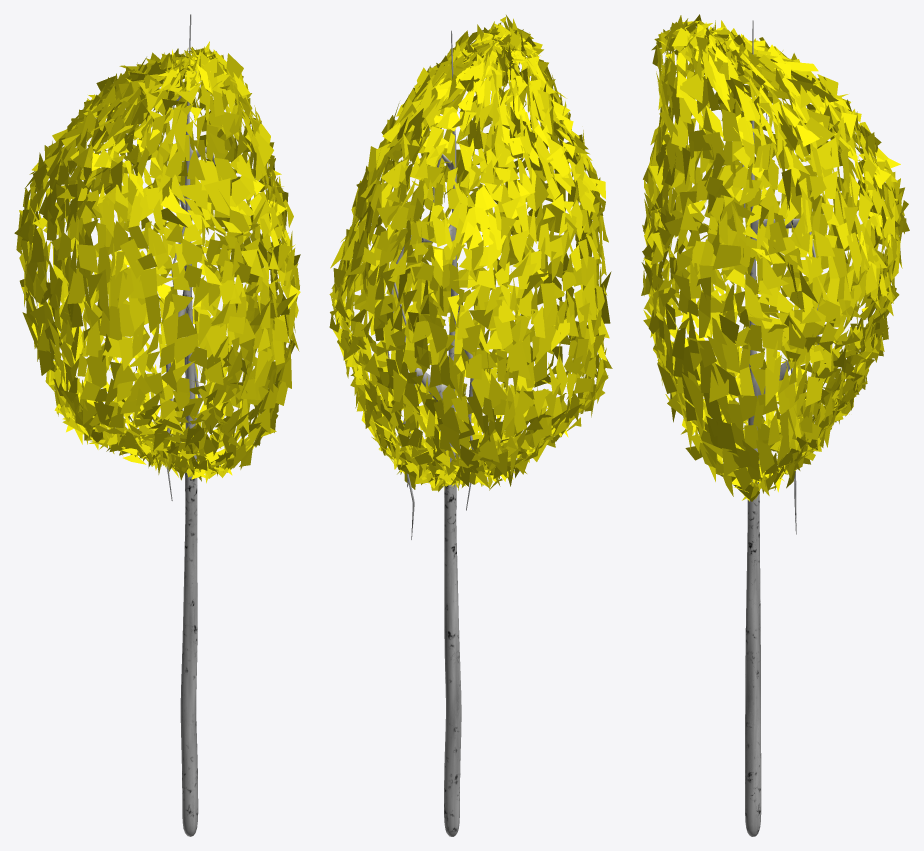
File: Leaves65.002.fbx
The picture shows the model from 3 angles, left to right: view 1: azimuth 30°, elevation 25°; view 2: azimuth 150°, elevation 25°; view 3: azimuth 270°, elevation 25°; orthographic projection. The views are drawn at different scales.
Parts seen in each view (by area): view 1: Leaves65.002; view 2: Leaves65.002; view 3: Leaves65.002.
Boxes of the visible parts, <box> form: Leaves65.002: <box>14,14,300,836</box>; Leaves65.002: <box>329,15,612,836</box>; Leaves65.002: <box>641,14,909,836</box>.
Size of the model in its own units: 795 by 2574 by 768.
Materials: 2 (1 with a texture image).
